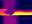Hotspot: (12, 11, 31, 15)
